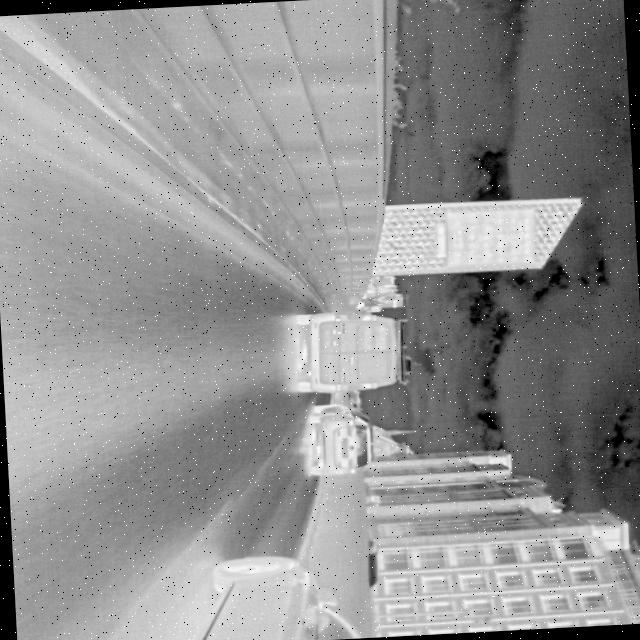Vehicle: (177, 547, 374, 640), (290, 304, 416, 396), (302, 401, 378, 479)
